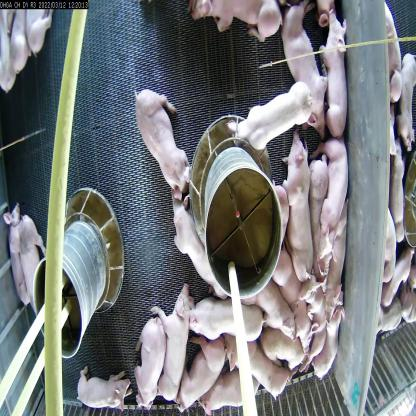Pig: (126, 67, 198, 205), (158, 198, 226, 300), (233, 82, 312, 168), (282, 0, 328, 143), (187, 293, 268, 353), (186, 0, 279, 52), (319, 15, 356, 142), (160, 287, 194, 413), (284, 127, 312, 278), (69, 356, 138, 416), (238, 339, 305, 399), (181, 330, 230, 412), (20, 207, 57, 309), (324, 109, 348, 261), (0, 191, 31, 308), (132, 310, 166, 409), (301, 163, 327, 274), (302, 273, 329, 378), (253, 278, 300, 337), (317, 272, 341, 385), (204, 366, 256, 416), (270, 251, 307, 321), (258, 329, 314, 374)
